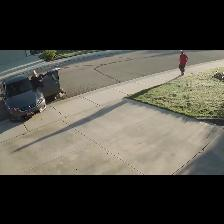person: (31, 71, 45, 88), (179, 51, 188, 74)
